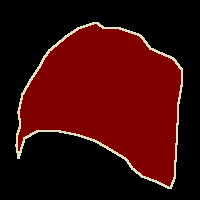hat: (16, 22, 182, 188)
